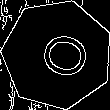O_W: (26, 27, 88, 82)
